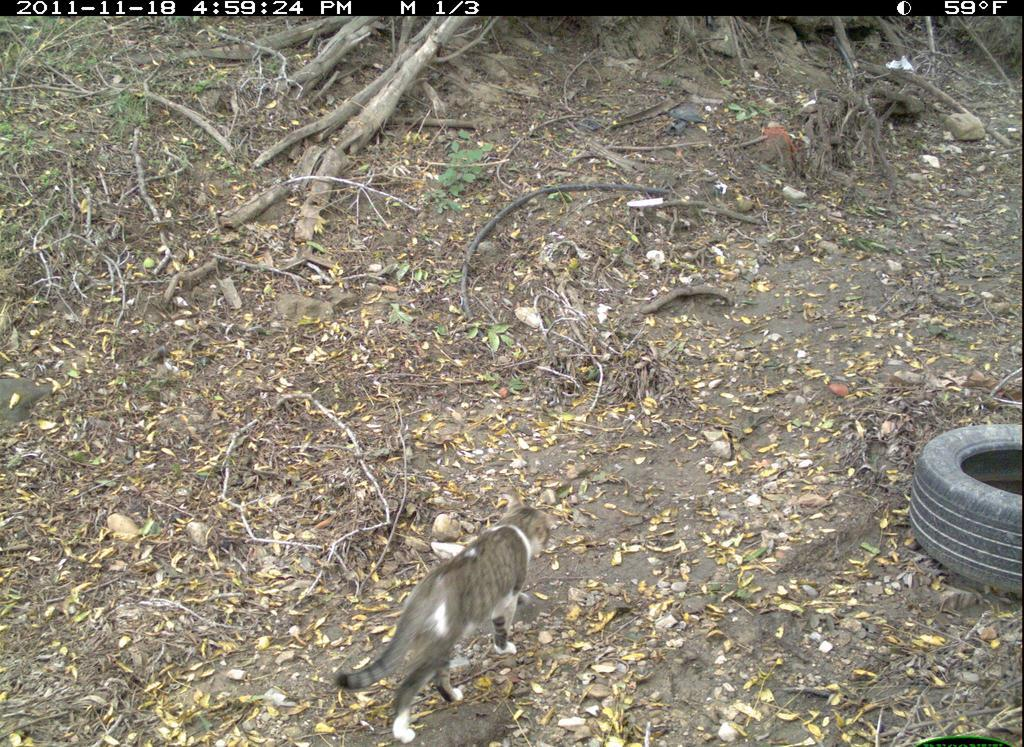cat: (335, 483, 561, 745)
